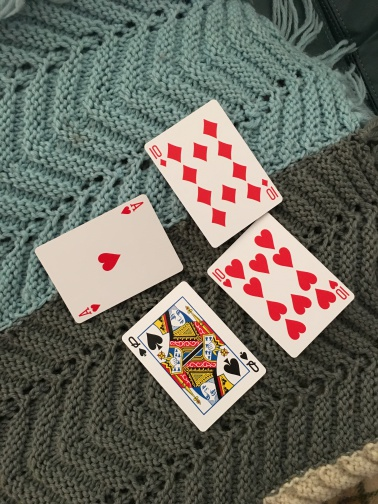ace: (33, 193, 183, 323)
queen: (118, 284, 267, 433)
ten: (207, 211, 356, 355), (144, 98, 286, 249)
